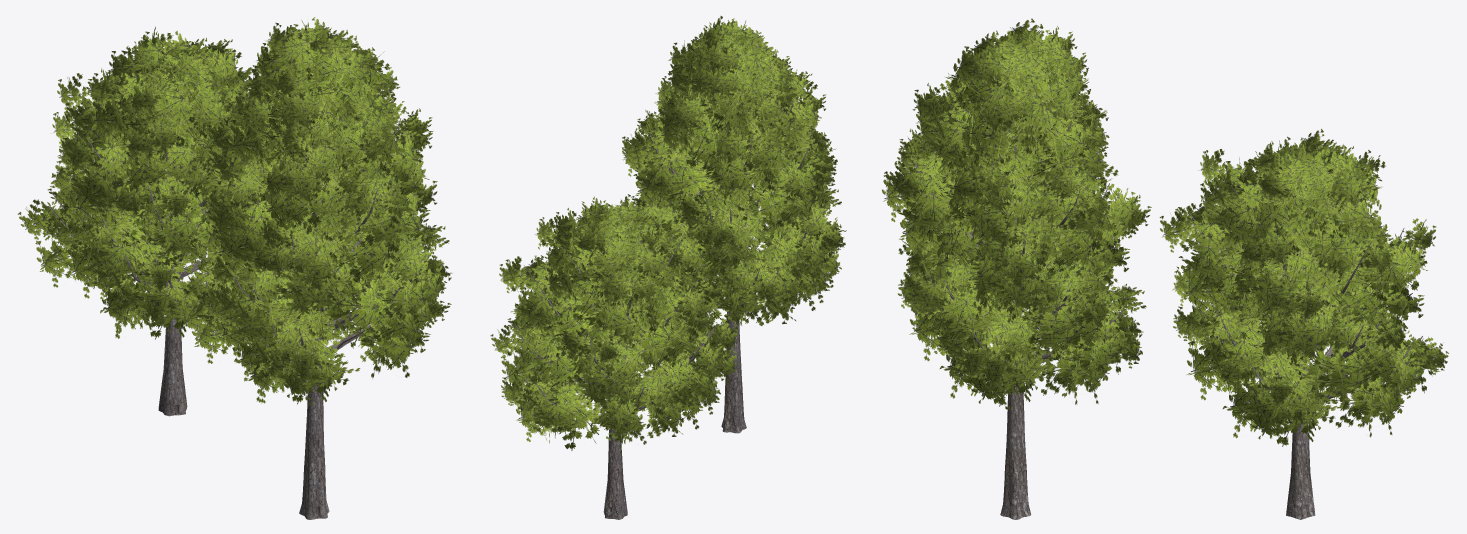
File: trees_low_poly.glb
3 views of the same model, side by side, from view 1: azimuth 30°, elevation 25°; view 2: azimuth 150°, elevation 25°; view 3: azimuth 270°, elevation 25° (orthographic). The views are drawn at different scales.
Parts seen in each view (by area): view 1: tree4_leaves_0, tree4_bark_0; view 2: tree4_leaves_0, tree4_bark_0; view 3: tree4_leaves_0, tree4_bark_0.
Boxes of the visible parts, left/top/right/bottom form: tree4_leaves_0: left=17, top=17, right=452, bottom=405; tree4_bark_0: left=48, top=58, right=428, bottom=519; tree4_leaves_0: left=490, top=16, right=846, bottom=453; tree4_bark_0: left=514, top=51, right=824, bottom=519; tree4_leaves_0: left=882, top=18, right=1448, bottom=446; tree4_bark_0: left=912, top=58, right=1422, bottom=519.
Bounding box in the file's own units: 580 × 1036 × 1100.
Materials: 2 (2 with a texture image).
